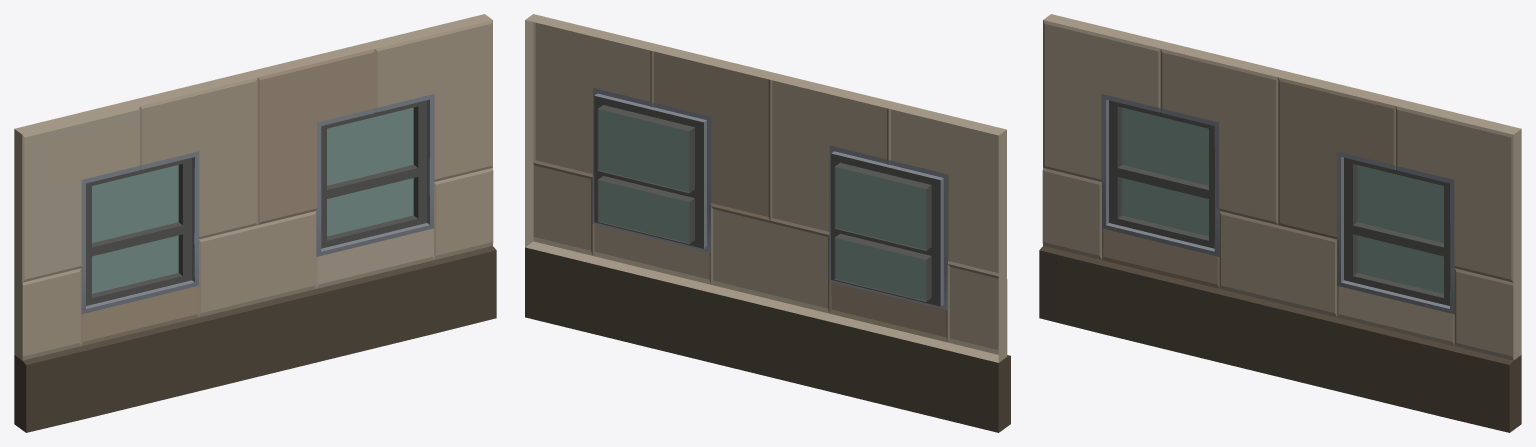
Rendered from Wall_Exterior_Window_Ground_01.glb.
The picture shows the model from 3 angles, left to right: view 1: azimuth 30°, elevation 25°; view 2: azimuth 150°, elevation 25°; view 3: azimuth 330°, elevation 25°; orthographic projection.
Parts seen in each view (by area): view 1: SM_Env_Wall_Exterior_Window_Ground_01.001, SM_Env_Wall_Exterior_Window_Ground_Glass_01.001; view 2: SM_Env_Wall_Exterior_Window_Ground_01.001, SM_Env_Wall_Exterior_Window_Ground_Glass_01.001; view 3: SM_Env_Wall_Exterior_Window_Ground_01.001, SM_Env_Wall_Exterior_Window_Ground_Glass_01.001.
Boxes of the visible parts, x1=… form: SM_Env_Wall_Exterior_Window_Ground_01.001: x1=14, y1=14, x2=496, y2=432; SM_Env_Wall_Exterior_Window_Ground_Glass_01.001: x1=92, y1=107, x2=413, y2=293; SM_Env_Wall_Exterior_Window_Ground_01.001: x1=525, y1=14, x2=1010, y2=432; SM_Env_Wall_Exterior_Window_Ground_Glass_01.001: x1=599, y1=109, x2=926, y2=300; SM_Env_Wall_Exterior_Window_Ground_01.001: x1=1039, y1=14, x2=1521, y2=432; SM_Env_Wall_Exterior_Window_Ground_Glass_01.001: x1=1122, y1=107, x2=1443, y2=293.
Bounding box in the file's own units: 5 × 3 × 0.2284.
2 materials, 1 textured.
